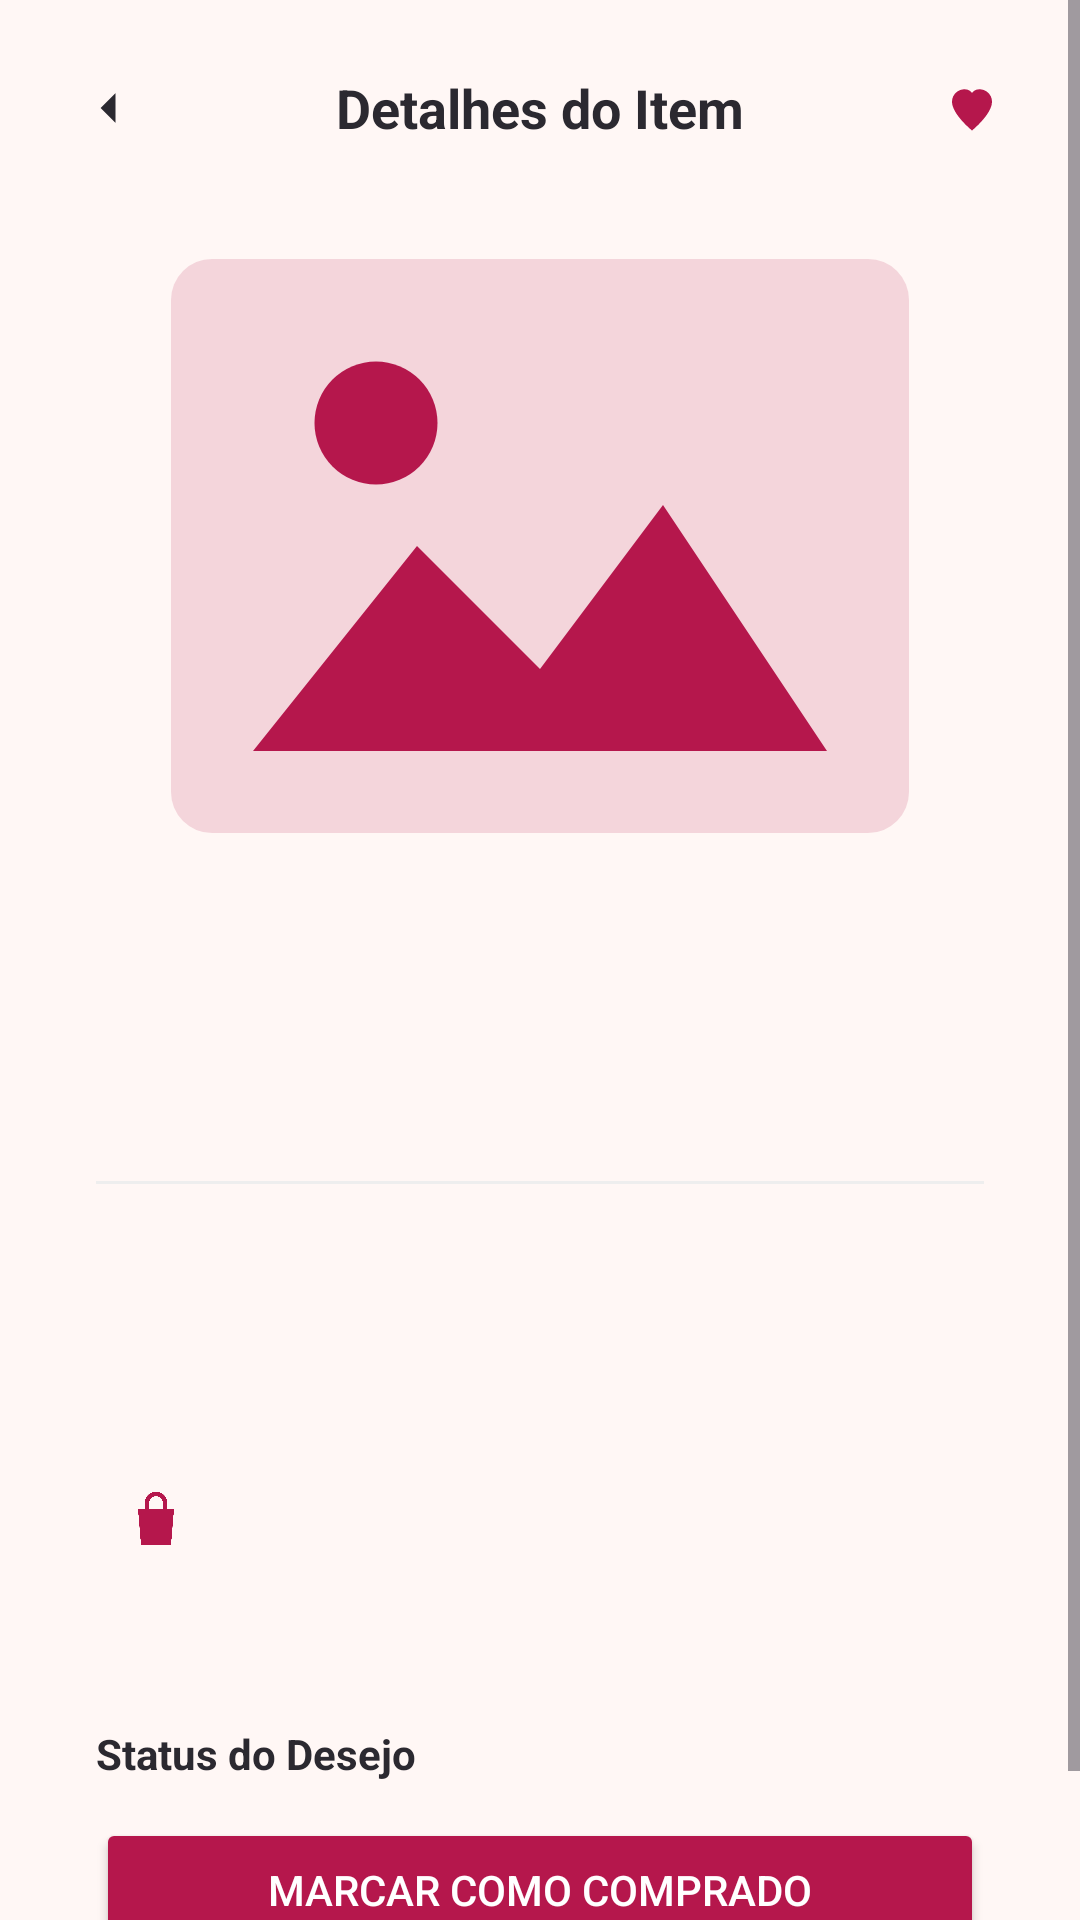

Point at icon controls on the screen. Image size 1080 × 1920, points as (x,y).
Favorito: (972,110)
Loja: (156,1518)
Voltar: (108,108)
